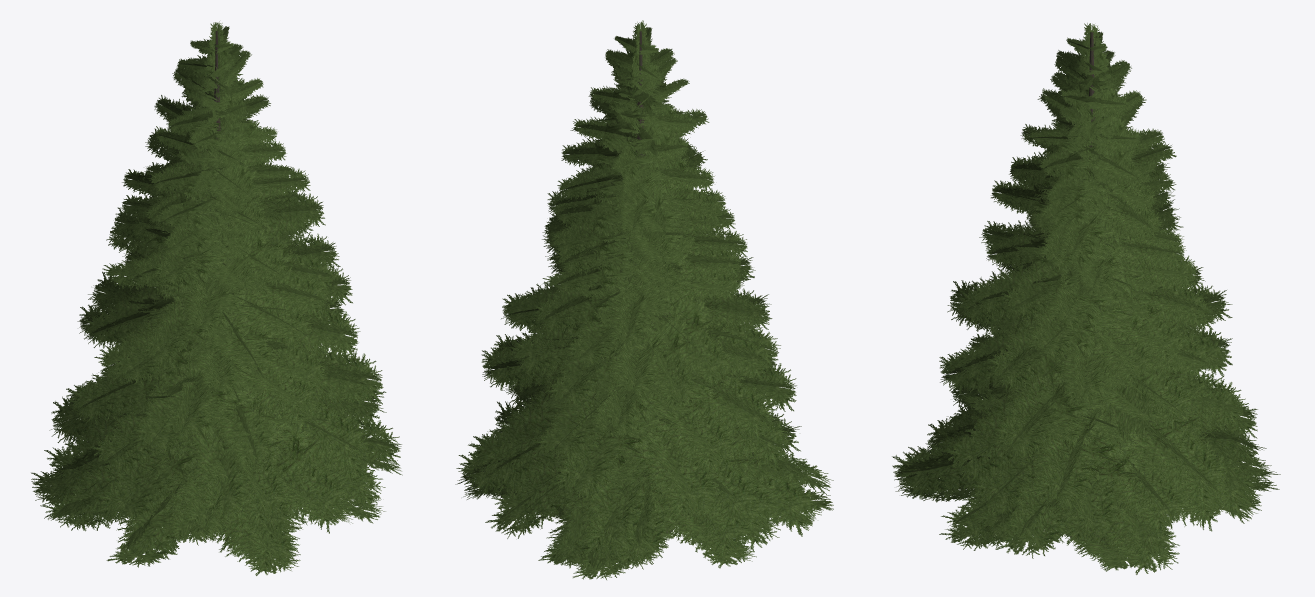
File: tree-pine-dense.glb
3 views of the same model, side by side, from view 1: azimuth 30°, elevation 25°; view 2: azimuth 150°, elevation 25°; view 3: azimuth 270°, elevation 25° (orthographic).
Parts seen in each view (by area): view 1: tree-pine-dense_LOD0; view 2: tree-pine-dense_LOD0; view 3: tree-pine-dense_LOD0.
Boxes of the visible parts, x1,y1,x2,y2 form: tree-pine-dense_LOD0: (31, 21, 402, 575); tree-pine-dense_LOD0: (455, 20, 833, 579); tree-pine-dense_LOD0: (892, 23, 1280, 574).
Size of what is drawn, in the model's own units: 4.14 by 5.65 by 4.29.
Materials: 2 (2 with a texture image).
